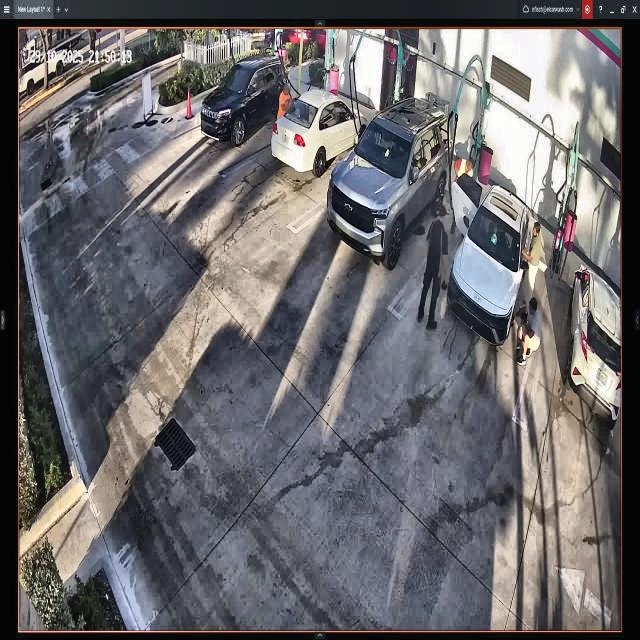Car: (329, 96, 452, 264), (451, 173, 532, 347), (272, 81, 366, 177), (198, 56, 284, 145)
